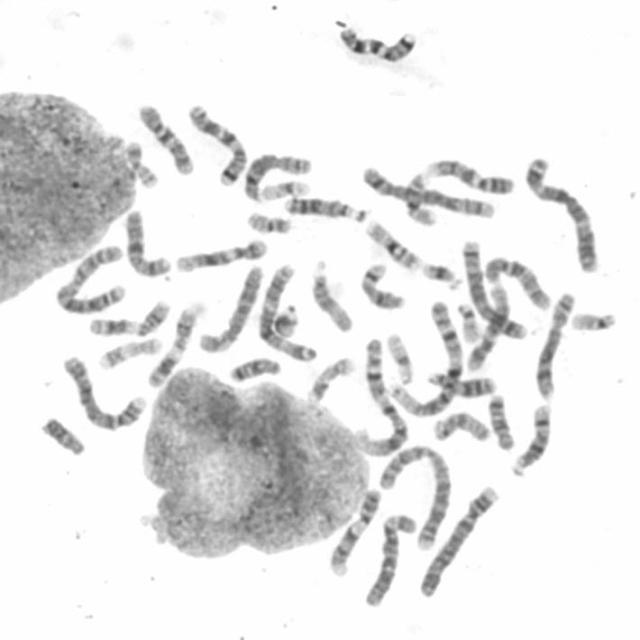A1: (384, 293, 467, 418), (350, 330, 411, 458)
A2: (373, 438, 454, 552), (49, 237, 130, 315)
A3: (518, 147, 602, 274), (252, 256, 318, 362)
B4: (413, 478, 501, 600), (56, 348, 149, 432)
B5: (356, 159, 497, 221), (457, 233, 530, 341)
C10: (132, 96, 196, 176), (478, 249, 554, 312)
C11: (140, 294, 207, 388), (83, 293, 174, 338)
C12: (460, 276, 512, 372), (170, 231, 270, 273)
C6: (193, 258, 265, 354), (359, 506, 419, 608)
C7: (181, 96, 250, 187), (333, 18, 419, 64)
C8: (528, 284, 579, 401), (238, 146, 315, 202)
C9: (323, 482, 383, 578), (421, 152, 517, 196)
D13: (278, 188, 368, 223), (422, 364, 498, 400)
D14: (506, 396, 554, 478), (354, 257, 408, 311)
D15: (306, 255, 355, 333), (427, 405, 492, 444)
E16: (360, 213, 422, 272), (400, 166, 439, 228)
E17: (301, 351, 357, 405), (91, 330, 164, 371)
E18: (482, 387, 518, 451), (223, 351, 284, 383)
F19: (380, 326, 416, 385), (253, 172, 312, 202)
F20: (120, 134, 161, 189), (242, 205, 293, 235)
G21: (416, 254, 464, 291), (268, 298, 301, 339)
G22: (564, 304, 620, 332), (452, 296, 485, 342)
X: (119, 202, 174, 278)
Y: (35, 410, 88, 458)
